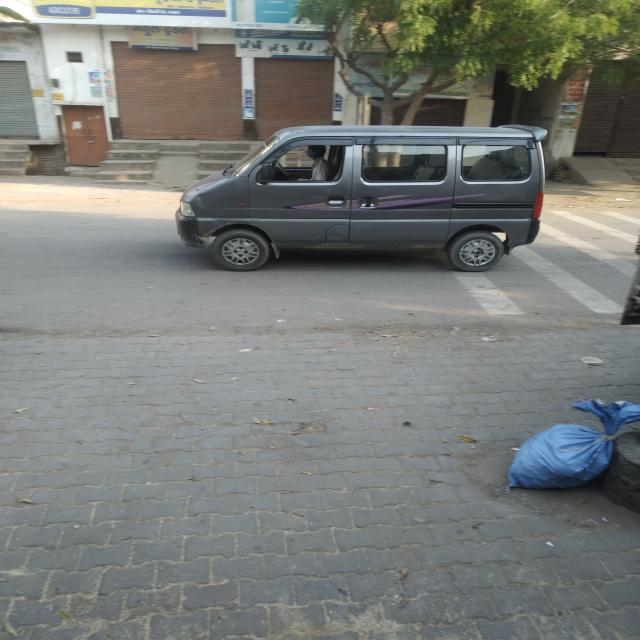Traveller: (175, 125, 547, 271)
